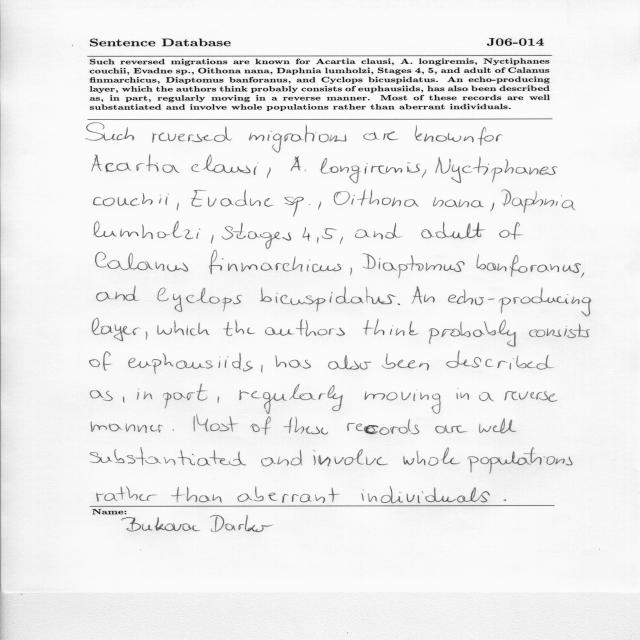word: (448, 288, 591, 317), (260, 287, 396, 312), (209, 251, 342, 275), (436, 157, 558, 183), (239, 384, 343, 414), (91, 447, 247, 466), (468, 447, 573, 474), (249, 125, 346, 153), (128, 353, 253, 374), (363, 253, 465, 278), (320, 158, 420, 183), (476, 254, 581, 277), (429, 320, 516, 347), (361, 487, 490, 504), (157, 287, 242, 312), (446, 351, 554, 370), (94, 221, 201, 239), (96, 252, 189, 272), (364, 390, 441, 414), (222, 223, 291, 249), (238, 486, 341, 503), (502, 190, 575, 213), (92, 155, 180, 173), (334, 190, 419, 207), (191, 154, 259, 175), (191, 190, 274, 207), (152, 126, 232, 143), (265, 319, 345, 336), (313, 449, 388, 466), (347, 419, 420, 435), (92, 319, 140, 342), (403, 447, 461, 466), (421, 222, 485, 239), (163, 384, 208, 408), (363, 318, 419, 336), (415, 126, 474, 143), (93, 193, 169, 206), (97, 486, 157, 502), (86, 123, 134, 141), (91, 421, 163, 433), (529, 324, 590, 338), (171, 487, 222, 503), (194, 414, 239, 432), (382, 354, 429, 371), (157, 321, 210, 336), (355, 223, 403, 239), (284, 417, 328, 434), (261, 450, 302, 467), (96, 286, 139, 301), (328, 355, 371, 370), (505, 391, 558, 402), (479, 419, 516, 434), (285, 197, 311, 217), (223, 320, 255, 336), (433, 197, 484, 207), (275, 355, 311, 369), (478, 127, 503, 146), (90, 351, 112, 371), (499, 222, 523, 240), (412, 286, 435, 304), (251, 416, 271, 435), (363, 132, 399, 141), (435, 425, 468, 434), (90, 390, 113, 401), (291, 156, 306, 171), (137, 388, 152, 400), (322, 228, 337, 239), (456, 388, 469, 400), (479, 392, 494, 402), (302, 227, 311, 241), (422, 169, 427, 178), (267, 168, 271, 179), (490, 202, 494, 212), (319, 201, 322, 210), (340, 237, 343, 244), (211, 235, 213, 244), (146, 331, 148, 340), (177, 203, 179, 211), (350, 268, 352, 276), (261, 365, 263, 373), (581, 273, 584, 278), (317, 237, 319, 244), (123, 396, 125, 403), (218, 396, 219, 403), (397, 303, 400, 305), (504, 499, 507, 501), (172, 430, 174, 431)
